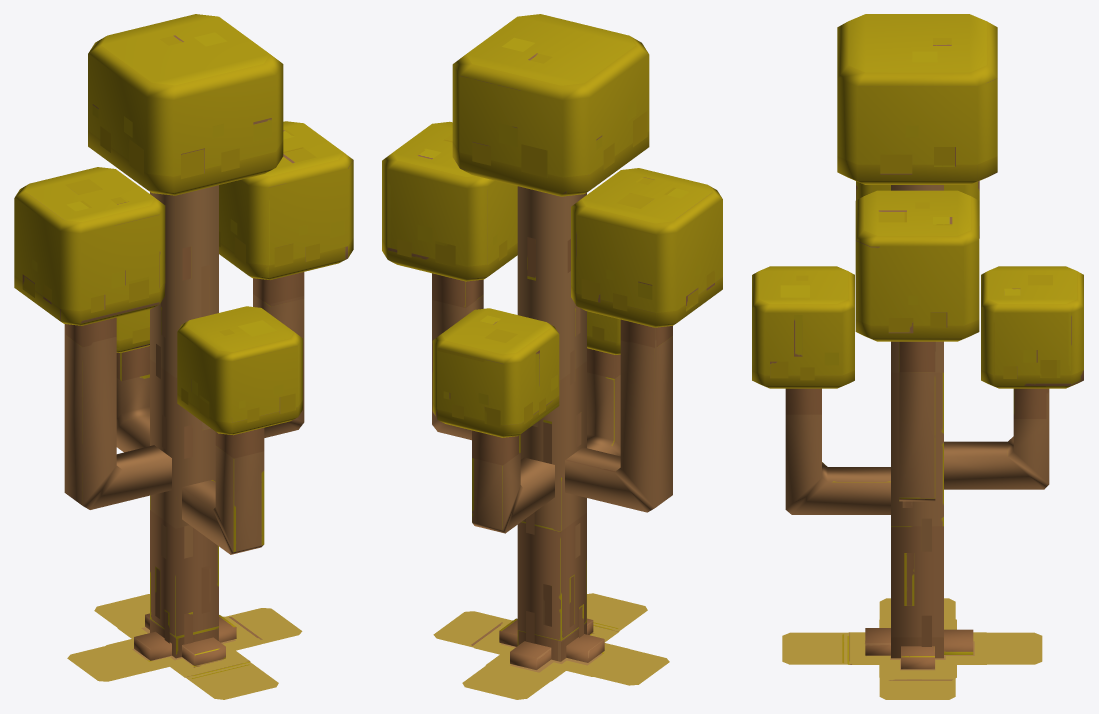
The model's file is B_mountain1_tree02.fbx.
3 renders of one model, left to right at view 1: azimuth 30°, elevation 25°; view 2: azimuth 150°, elevation 25°; view 3: azimuth 270°, elevation 25°, orthographic.
Visible parts, largest first — view 1: model 1, model; view 2: model 1, model; view 3: model 1, model.
Boxes of the visible parts, bbox=[...] form: model 1: bbox=[14, 14, 353, 699]; model: bbox=[103, 616, 263, 678]; model 1: bbox=[382, 14, 722, 699]; model: bbox=[471, 620, 632, 682]; model 1: bbox=[752, 14, 1083, 699]; model: bbox=[842, 616, 993, 680].
Size of the model in its own units: 5.69 by 11.02 by 5.48.
1 material, 1 textured.
